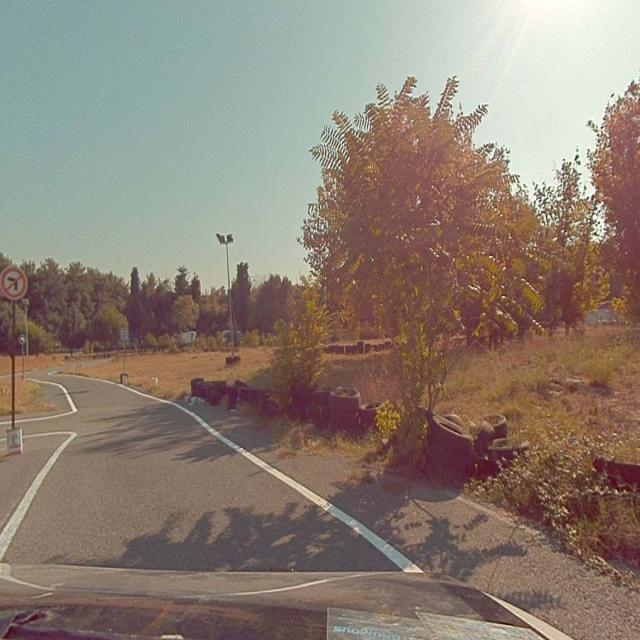durak: (121, 329, 127, 338)
soladonulmez: (1, 267, 26, 298)
